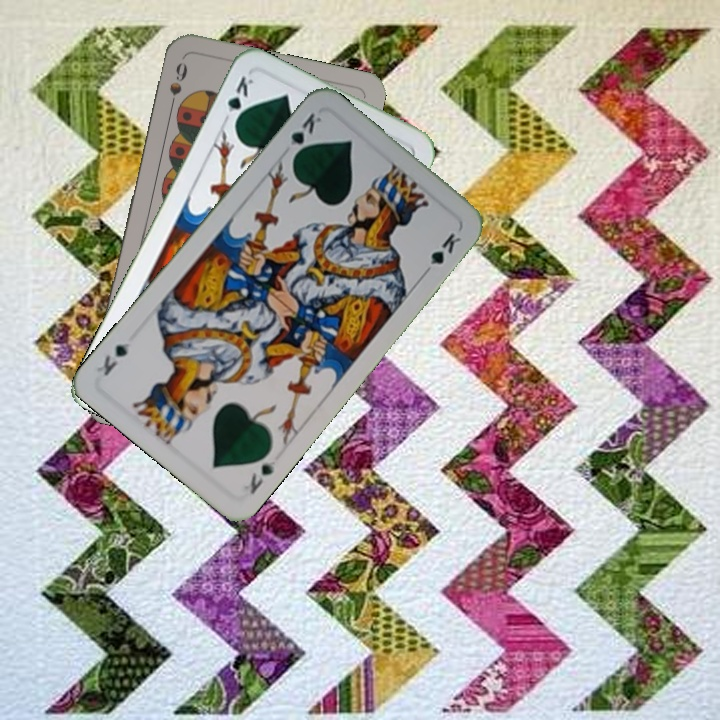GK: (284, 109, 324, 162), (223, 71, 256, 129), (239, 456, 279, 498)
S9: (165, 58, 190, 115)
